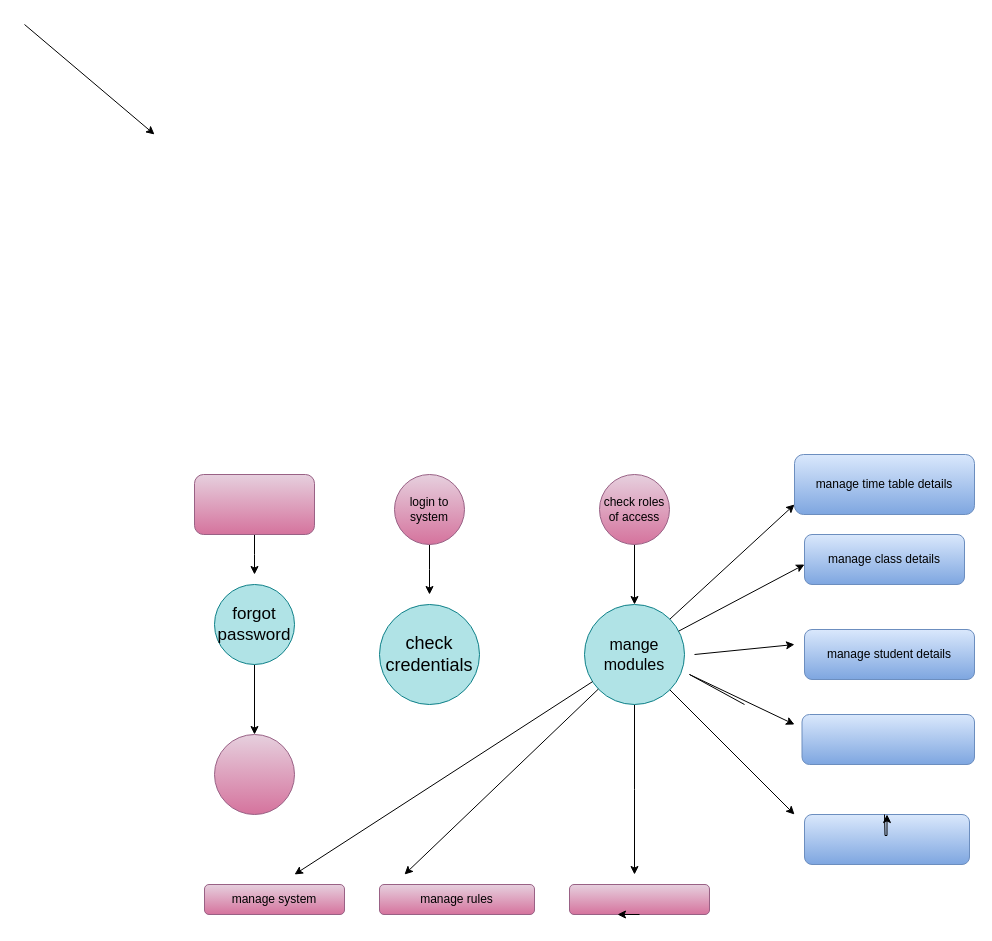
Some shapes in this 992 by 941 pixel diagram are drawn without their labels. Each missing label, with the centre of its shape:
admin: the point at 254,504
manage attendence details: the point at 887,839
manage teacher profile: the point at 887,739
manage user: the point at 639,899
send email to user: the point at 254,774
